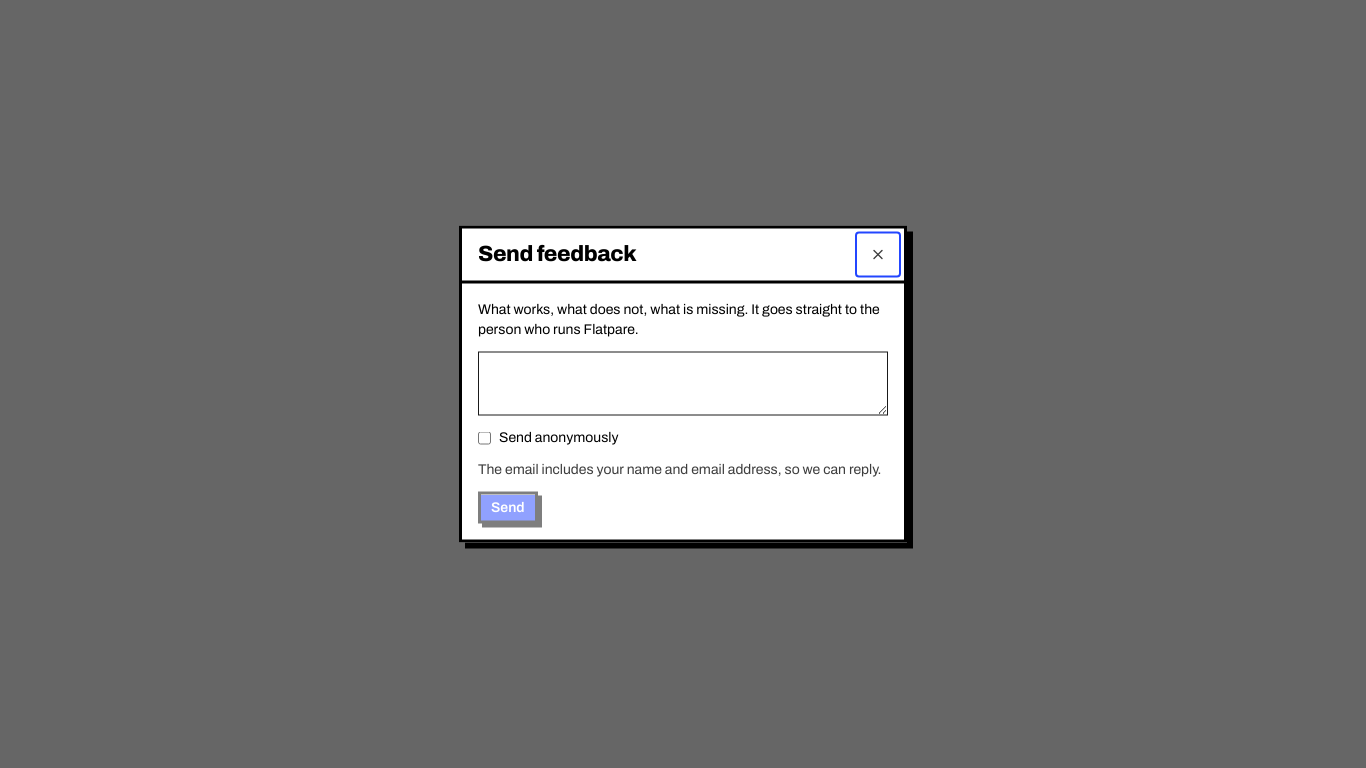
FeedbackDialog › says when today's limit is reached and keeps the message
The image size is (1366, 768).
Click the text box named "Your feedback".
click(683, 384)  # box [478,352,888,416]
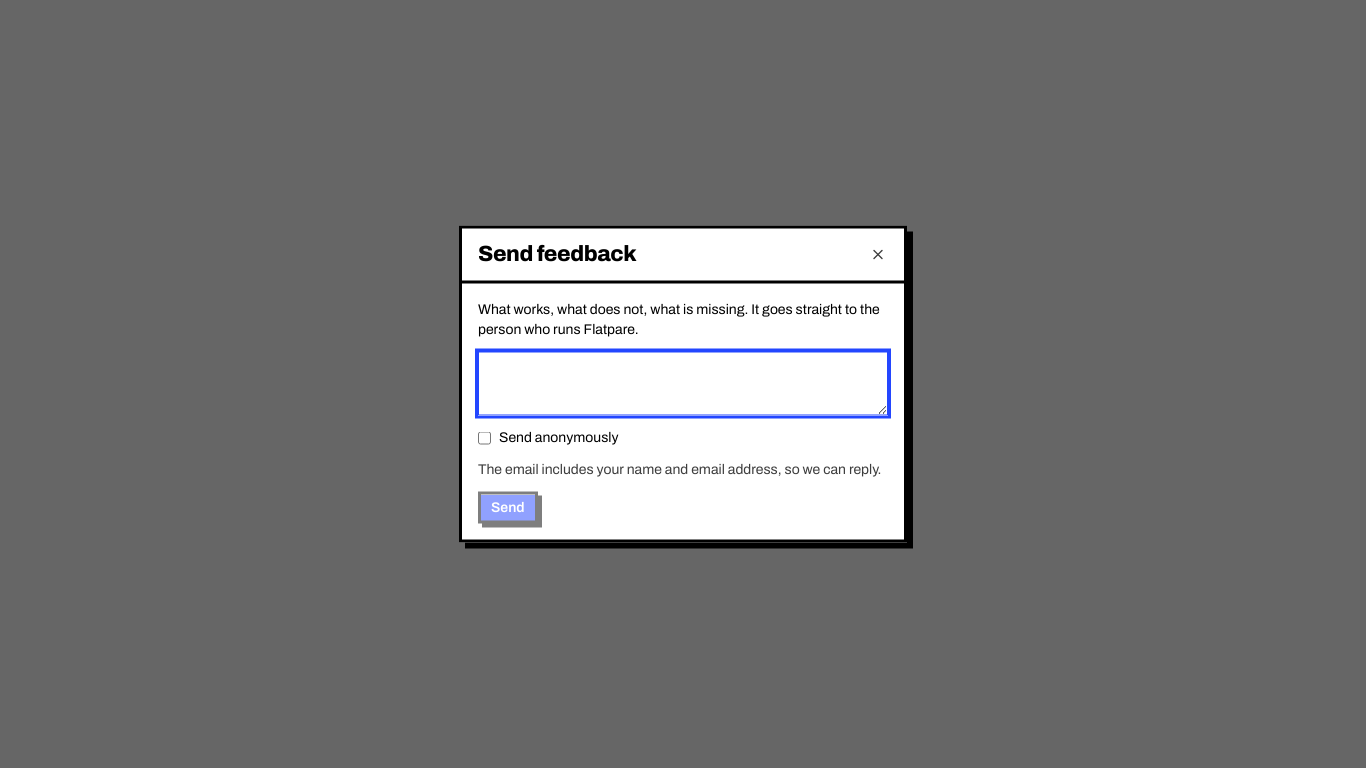
Type keys "Later"
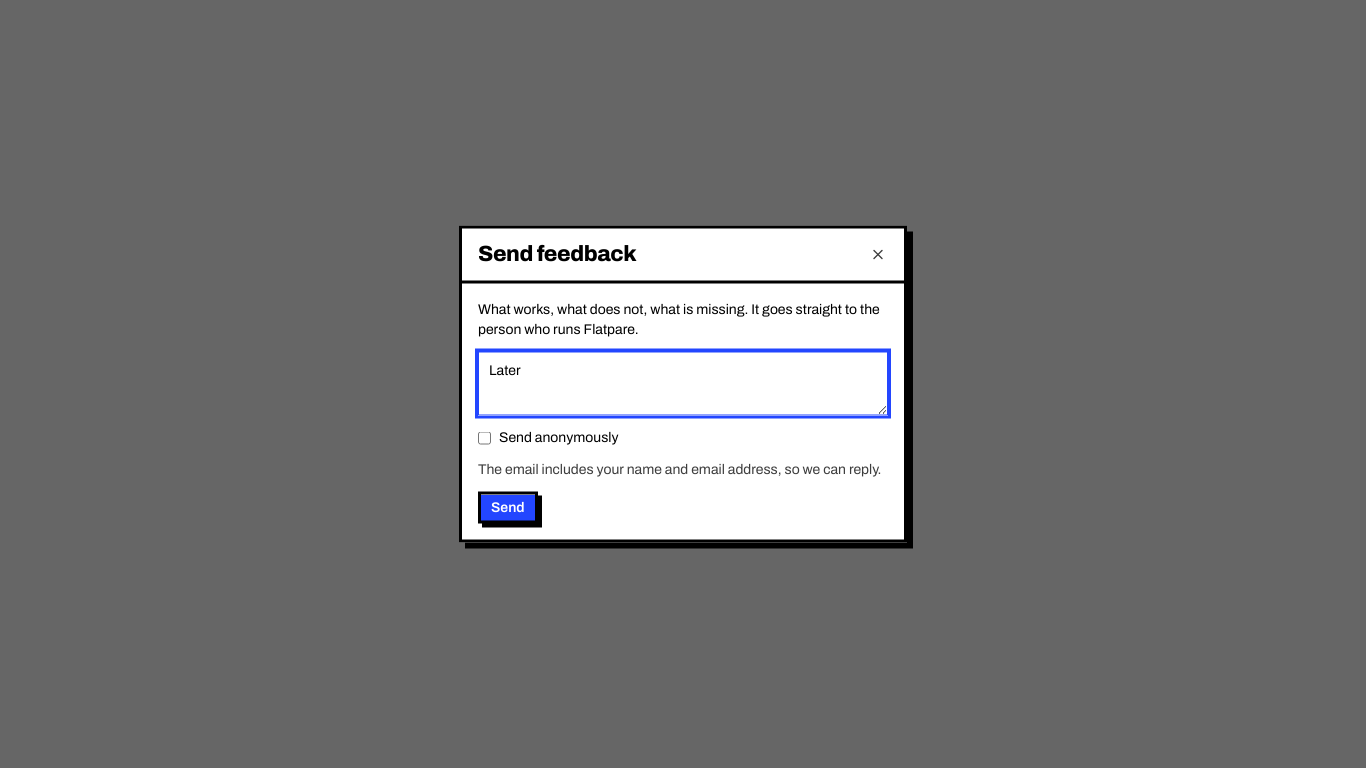
Click the button "Send".
click(508, 508)  # box [478,492,538,524]
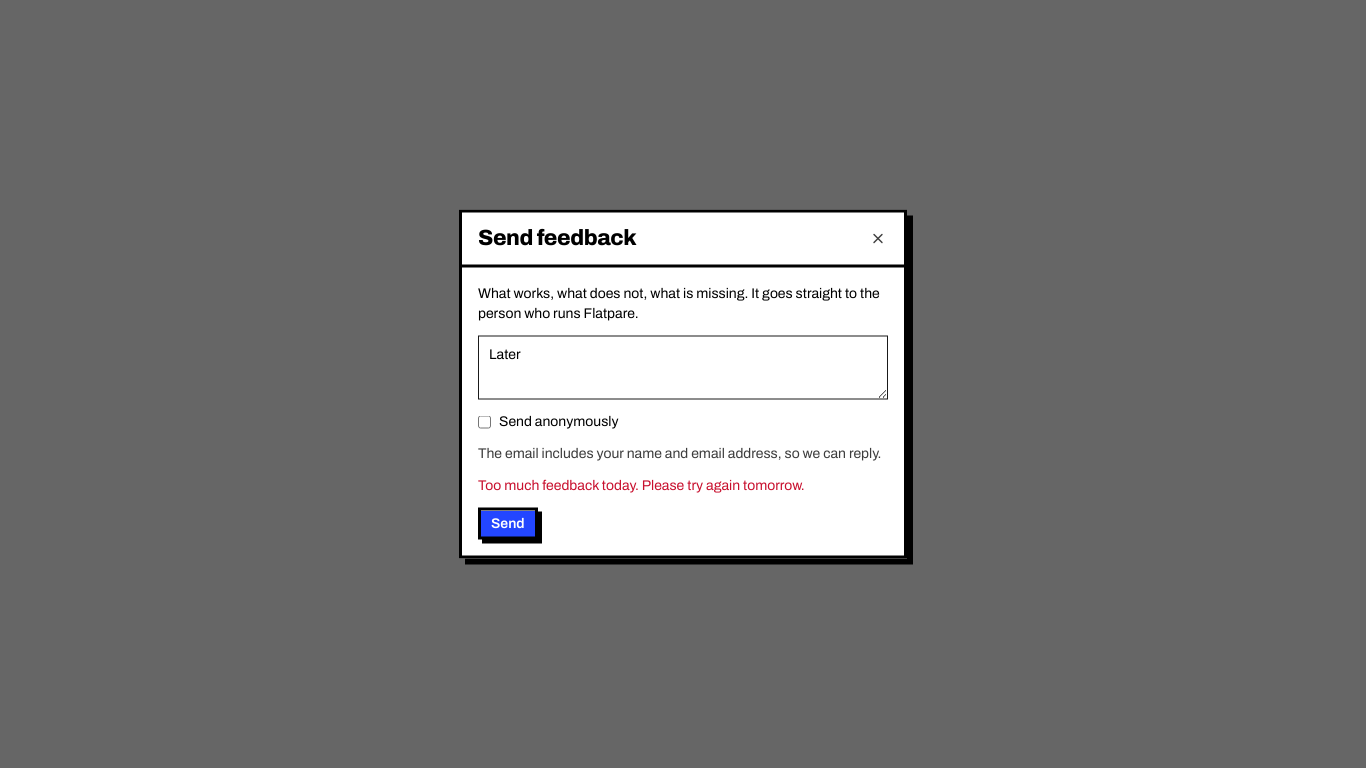
Now the text box named "Your feedback" holds "Later", box [478,336,888,400]
Now the message shows "try again tomorrow", box [478,478,805,492]
